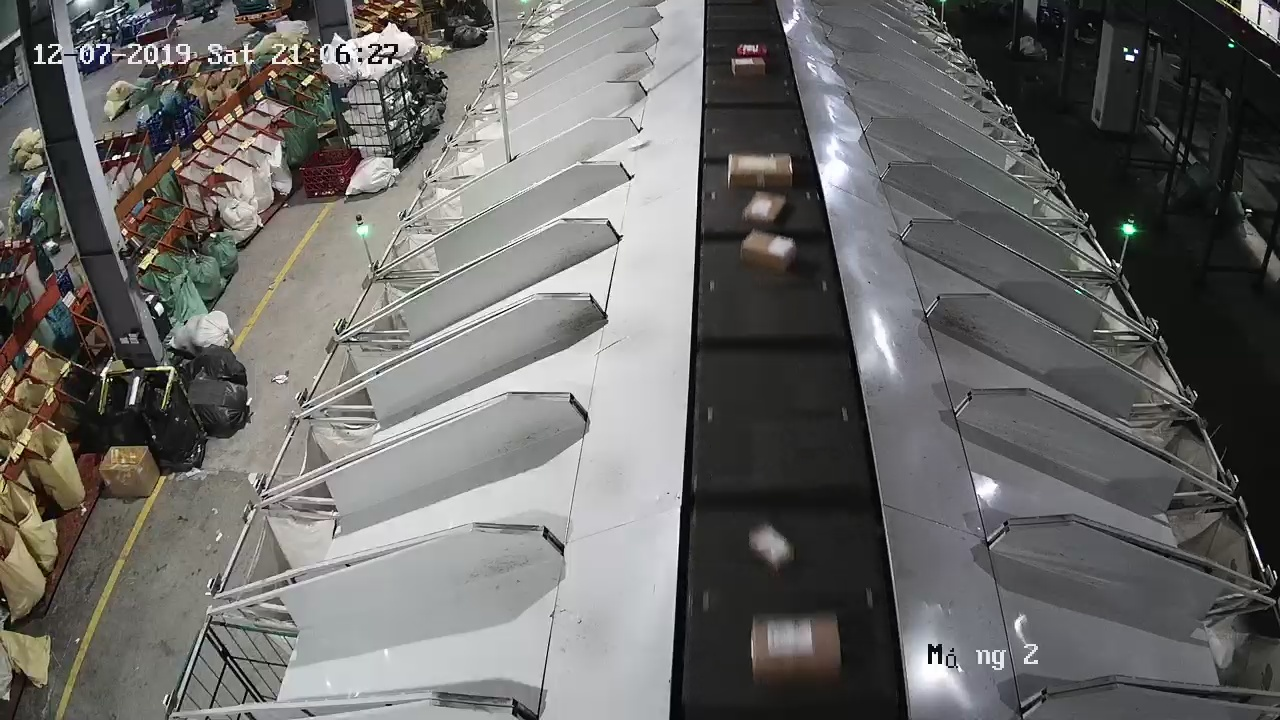parcel: (627, 139, 652, 152)
